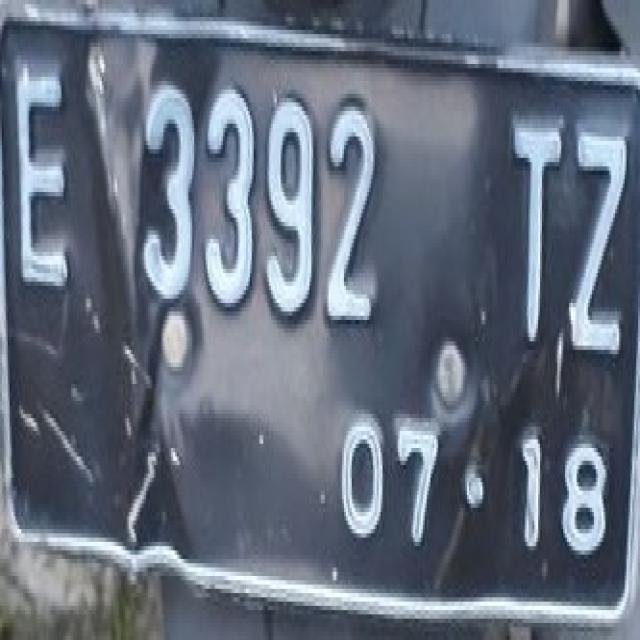plate: (0, 0, 636, 619)
